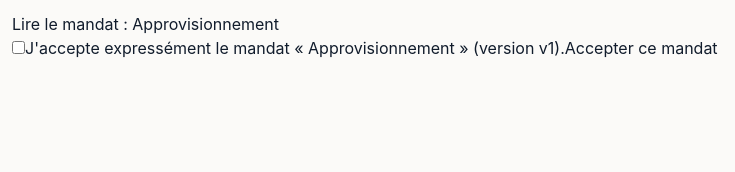
MerchantMandateConsent › submits only the selected mandate after a positive action
The width and height of the screenshot is (735, 172).
Click the checkbox: (18, 48) [12,41,25,54]
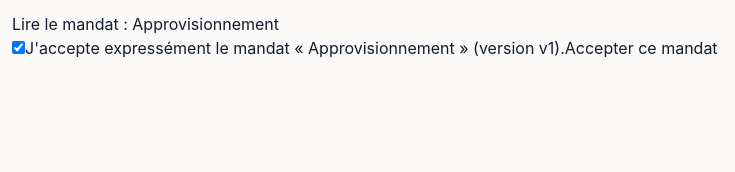
Click the button: (641, 48) [565,36,718,60]
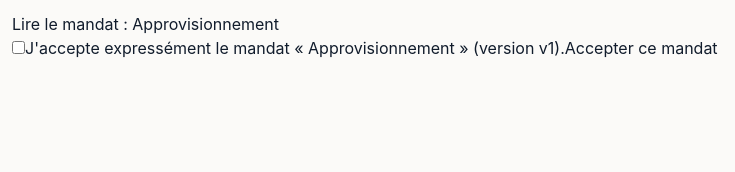
Now the checkbox is not checked, box [12,41,25,54]
